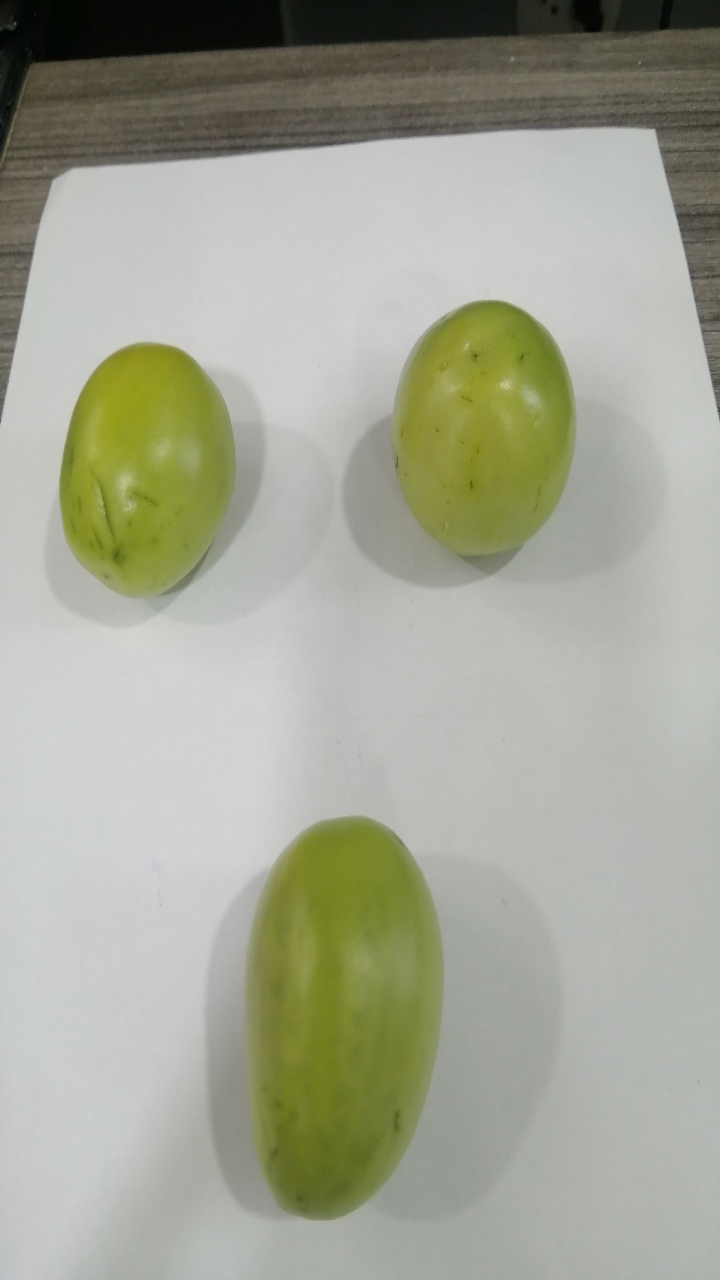tomateVerde: (217, 794, 469, 1235), (24, 322, 277, 634), (372, 292, 600, 579)
